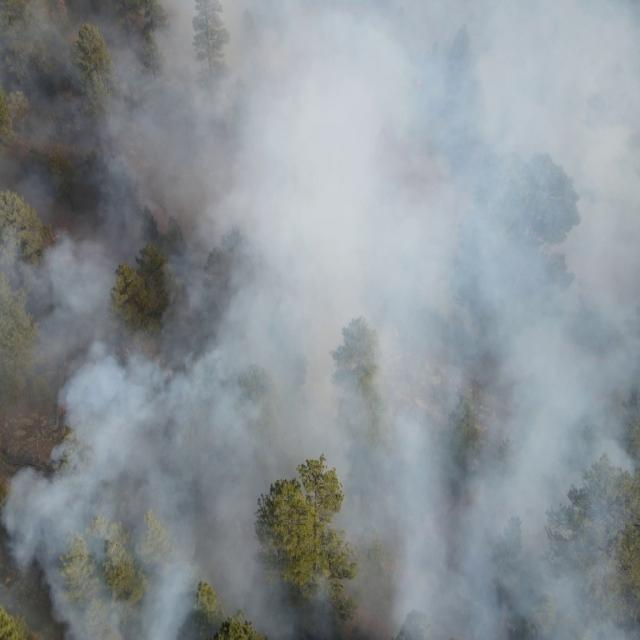fire: (128, 348, 176, 378)
smoke: (0, 0, 640, 640)
